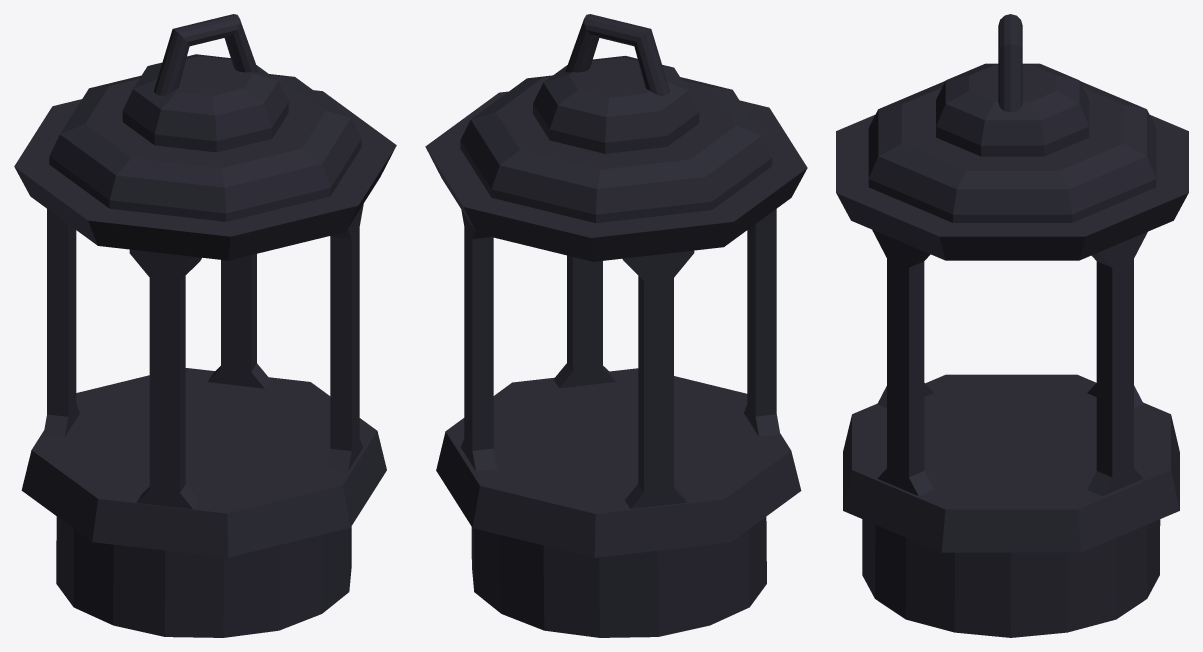
The model's file is Lantern.fbx.
The picture shows the model from 3 angles, left to right: view 1: azimuth 30°, elevation 25°; view 2: azimuth 150°, elevation 25°; view 3: azimuth 270°, elevation 25°; orthographic projection.
Parts seen in each view (by area): view 1: Cube.005; view 2: Cube.005; view 3: Cube.005.
Boxes of the visible parts, left/top/right/bottom form: Cube.005: left=14, top=14, right=396, bottom=637; Cube.005: left=425, top=14, right=807, bottom=637; Cube.005: left=836, top=14, right=1188, bottom=637.
Size of the model in its own units: 42.98 by 73.53 by 42.98.
